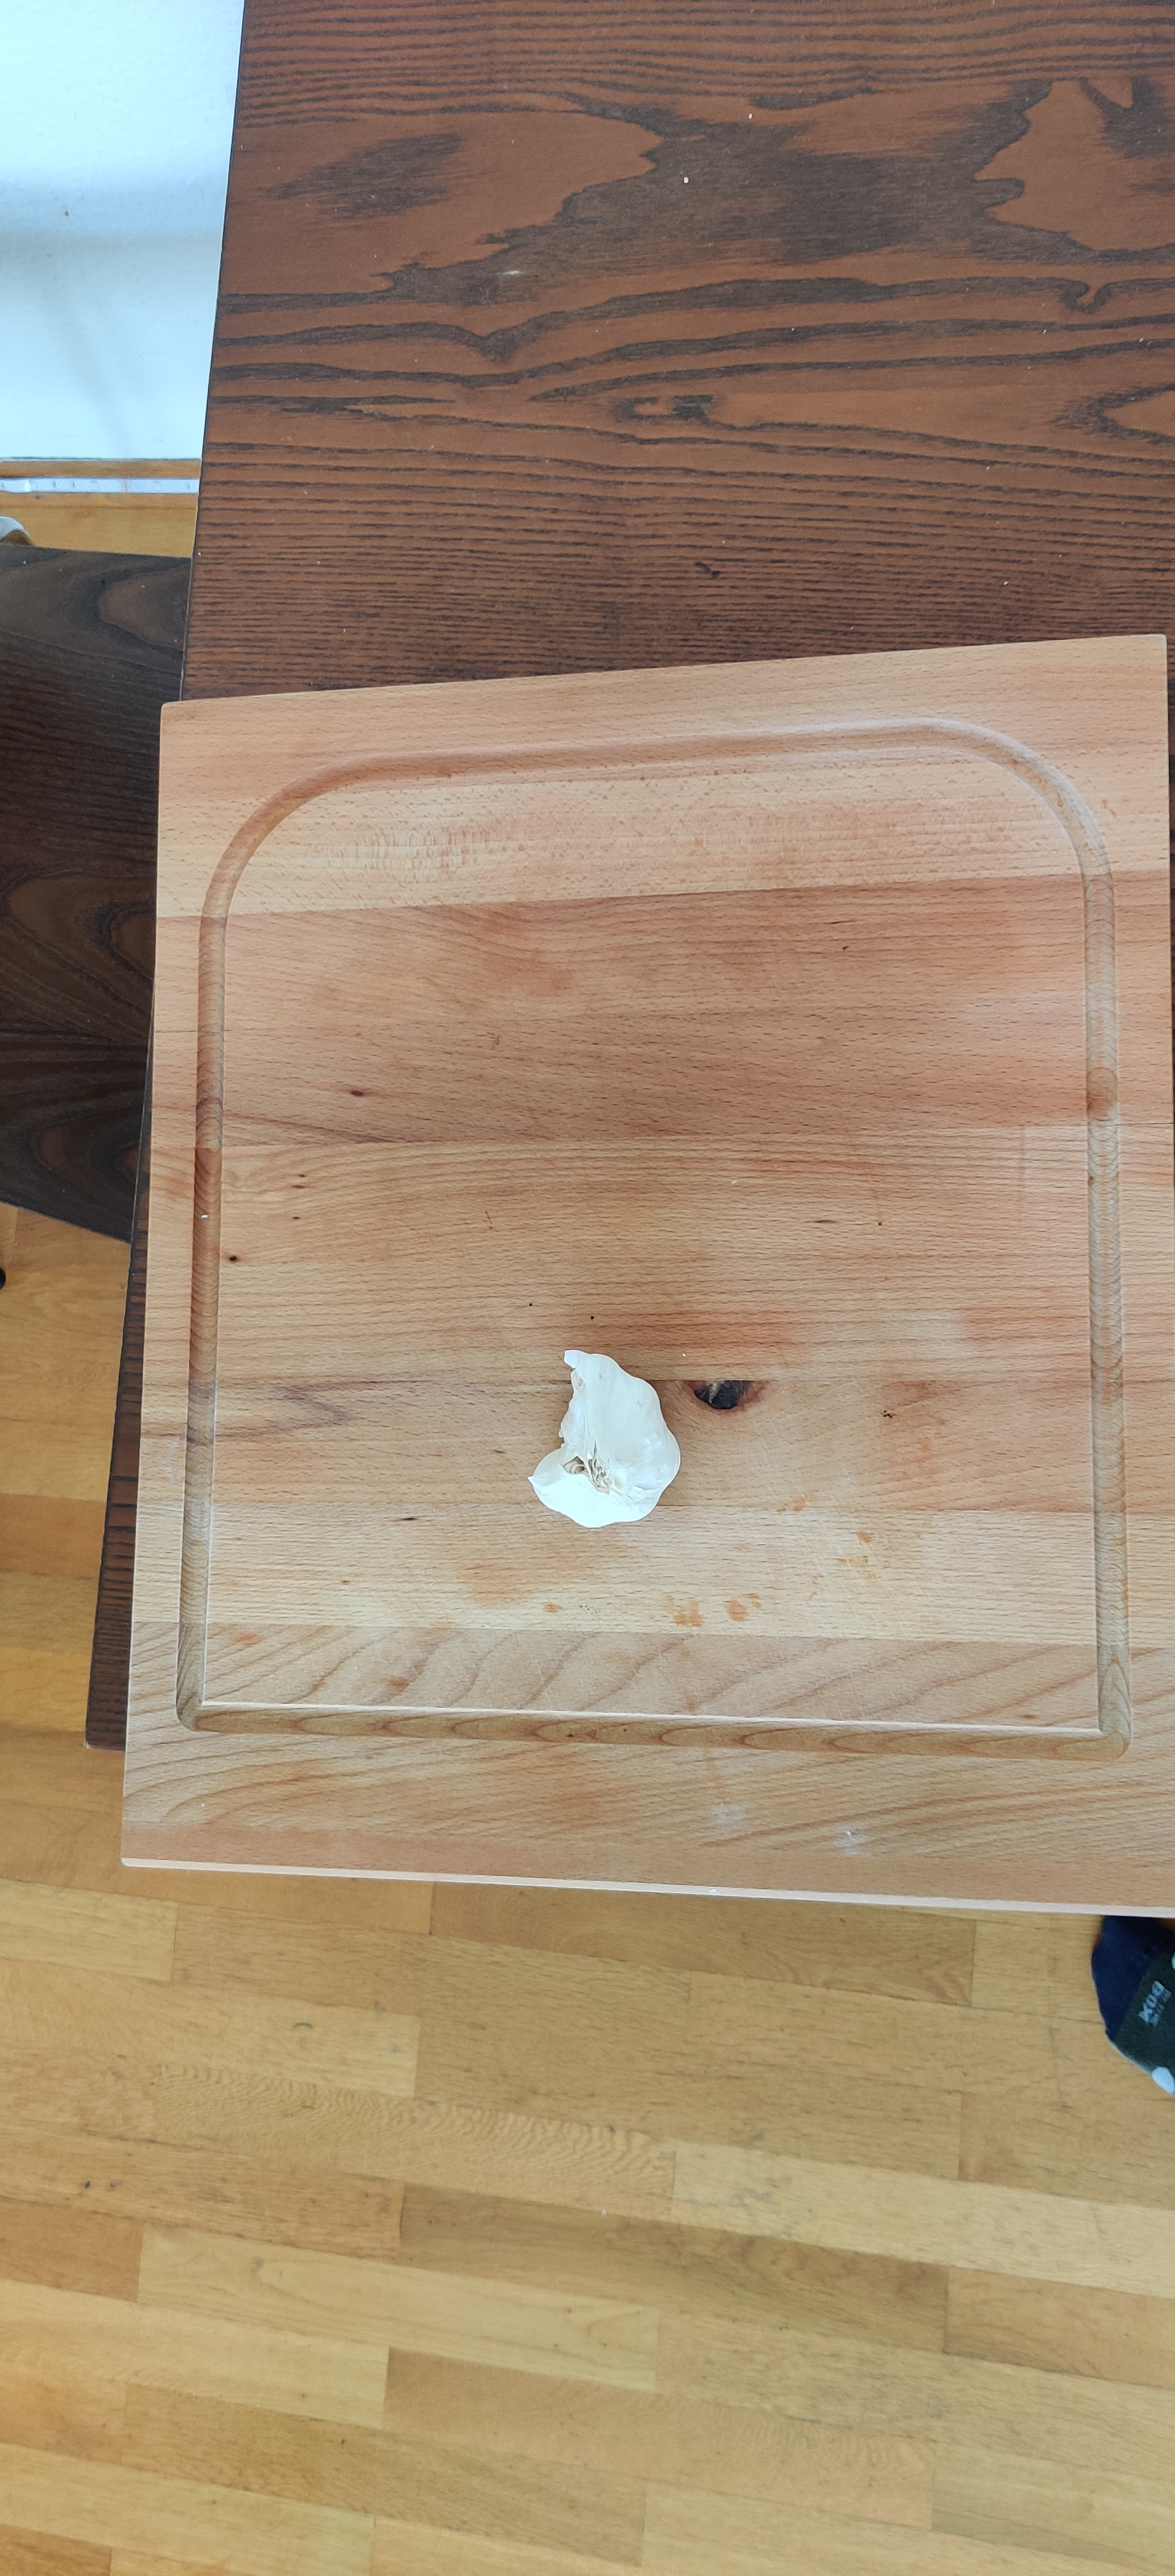Knoblauch: (528, 1345, 684, 1528)
